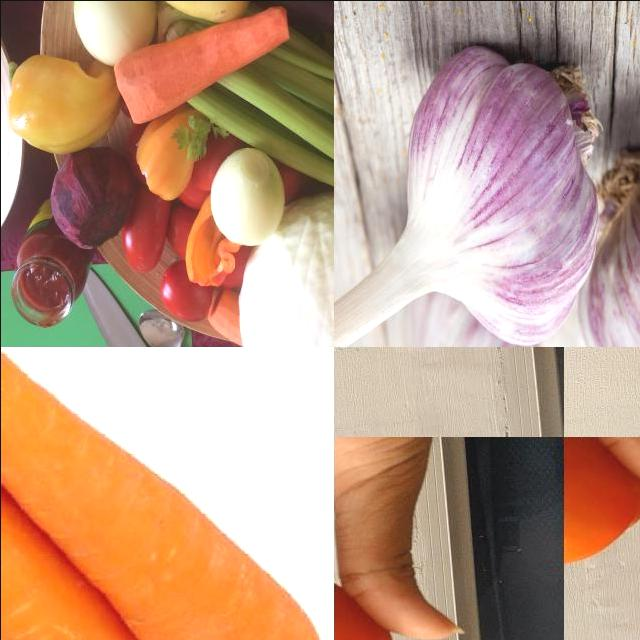bell_pepper: (1, 44, 126, 149), (126, 1, 260, 32)
cabbage: (234, 188, 334, 347)
carrot: (1, 347, 324, 640), (1, 347, 210, 640), (113, 8, 291, 124), (1, 396, 84, 640)
garlic: (334, 41, 604, 347), (346, 277, 556, 347)
onion: (209, 146, 282, 254), (71, 1, 154, 77)
tomato: (122, 187, 169, 280), (161, 267, 219, 334)
